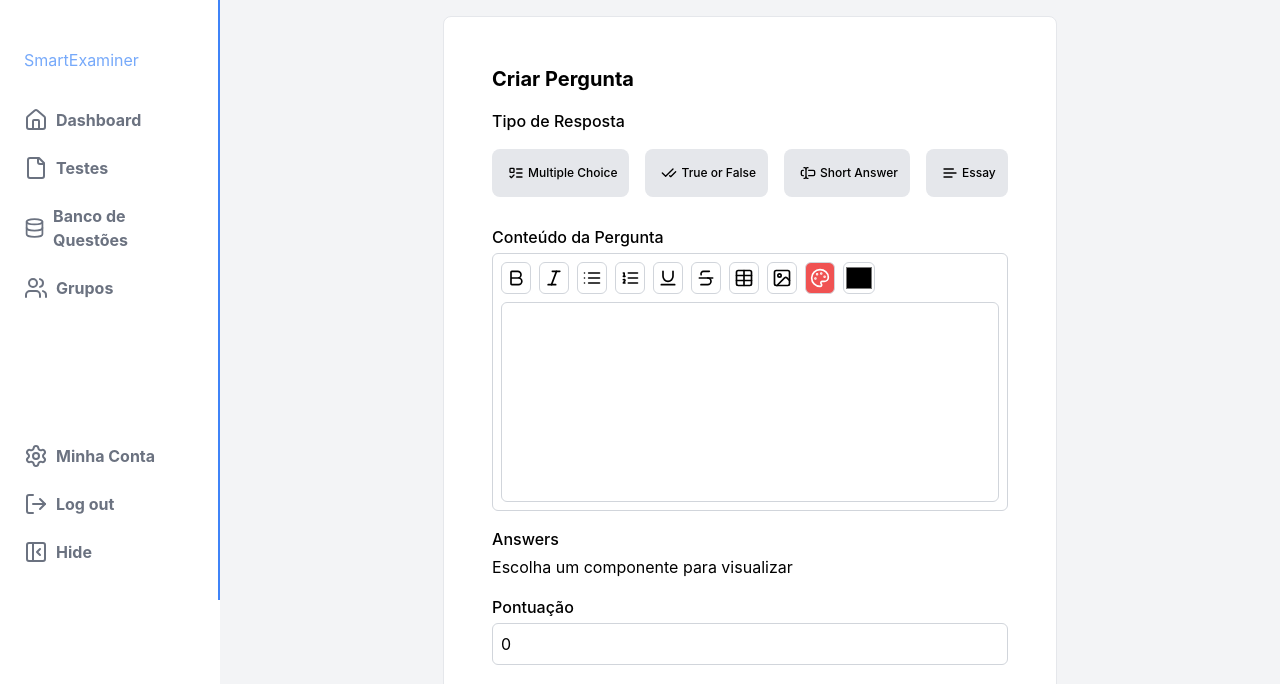
it: CreateQuestion Component › changes question type to 'Multiple Choice' when button is clicked
Click the button "Multiple Choice". click: (561, 173)
box: [492,149,629,197]
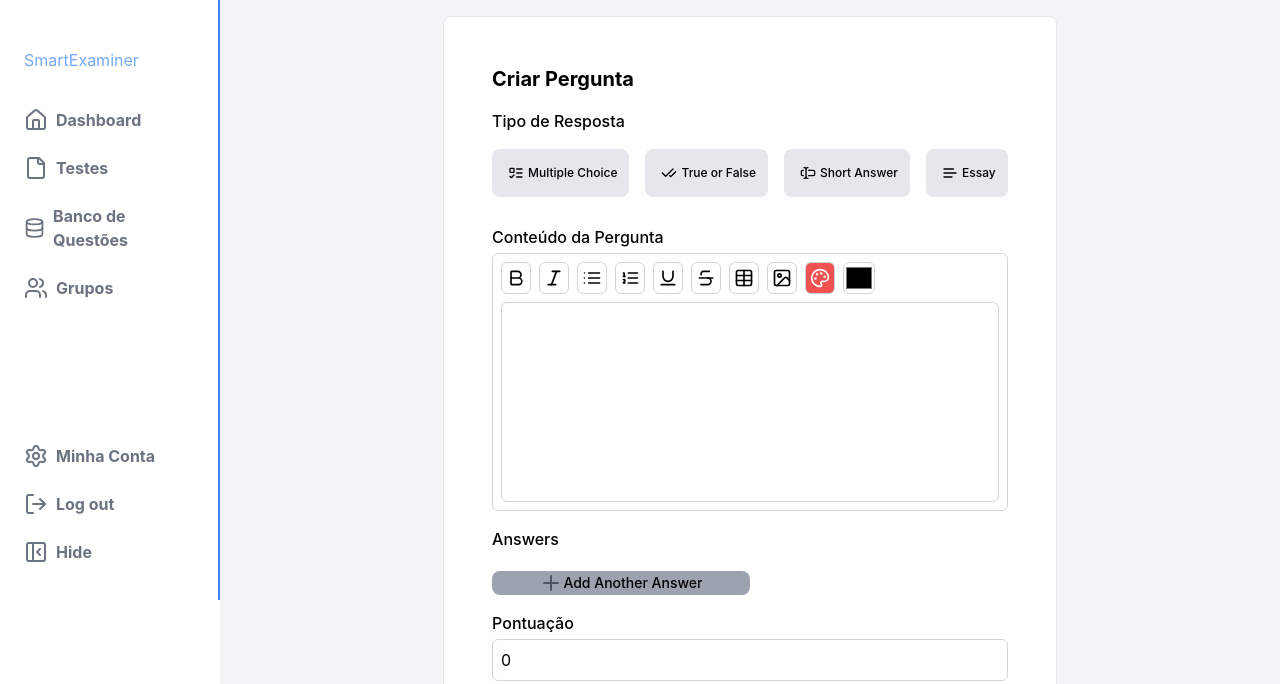
Now the number of buttons "Add Another Answer" is 1, box [492,571,750,595]
